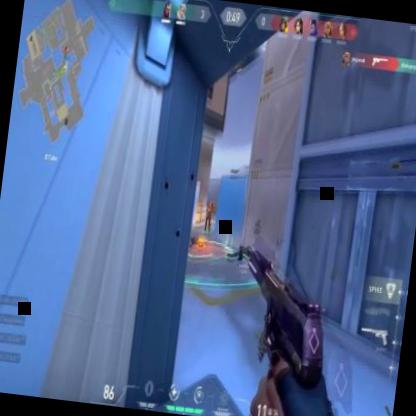enemy: (203, 198, 214, 232)
enemy_head: (209, 201, 213, 207)
